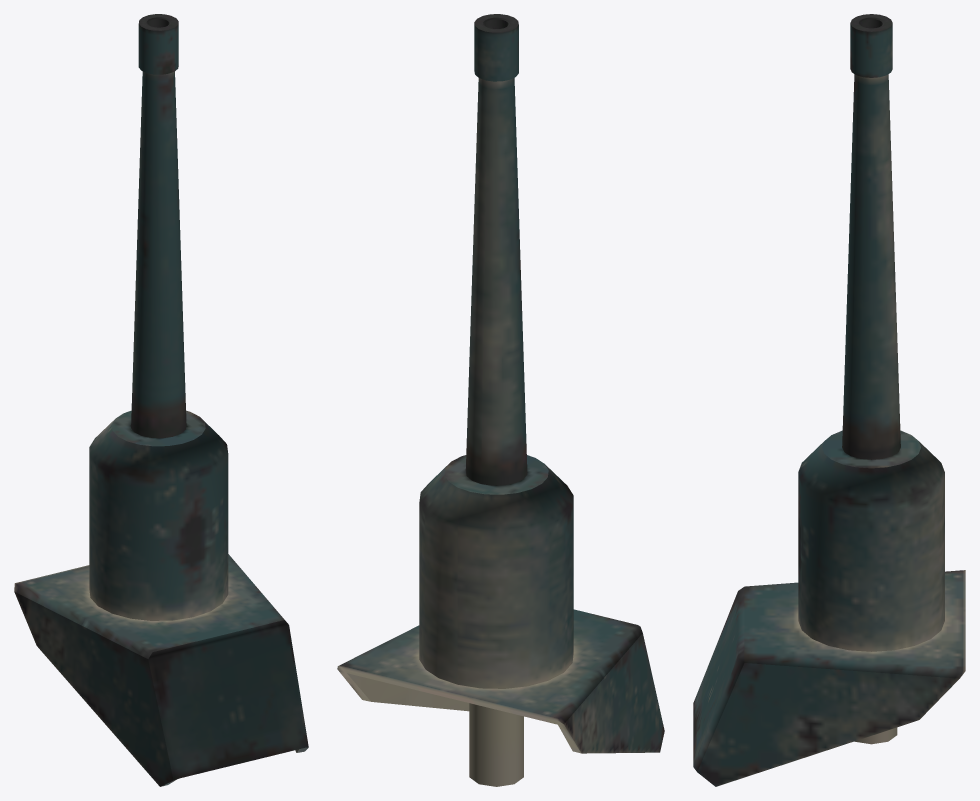
The model's file is Gun_02.glb.
The picture shows the model from 3 angles, left to right: view 1: azimuth 30°, elevation 25°; view 2: azimuth 150°, elevation 25°; view 3: azimuth 270°, elevation 25°; orthographic projection. The views are drawn at different scales.
Parts seen in each view (by area): view 1: set_0_group_0; view 2: set_0_group_0; view 3: set_0_group_0.
Part boxes in pixels (x1,y1,x2,y2): set_0_group_0: [14, 14, 308, 786]; set_0_group_0: [337, 14, 664, 786]; set_0_group_0: [693, 14, 965, 786].
Bounding box in the file's own units: 0.5159 × 1.67 × 0.5679.
1 material, 1 textured.
